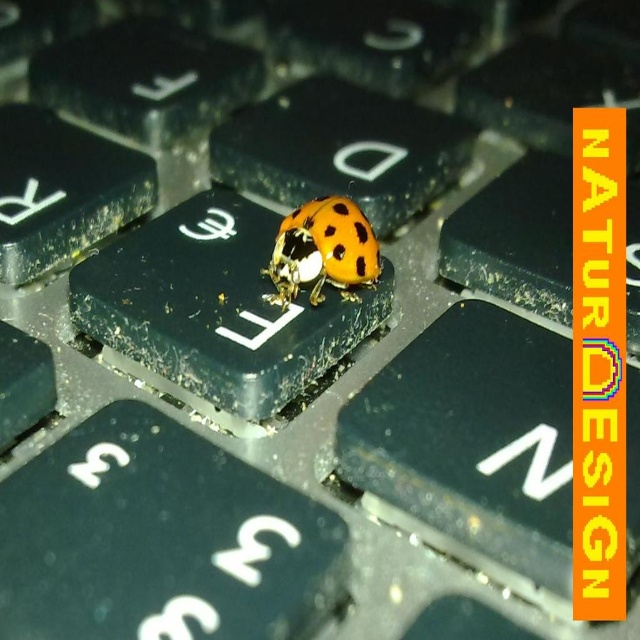Ladybug: (264, 190, 380, 304)
